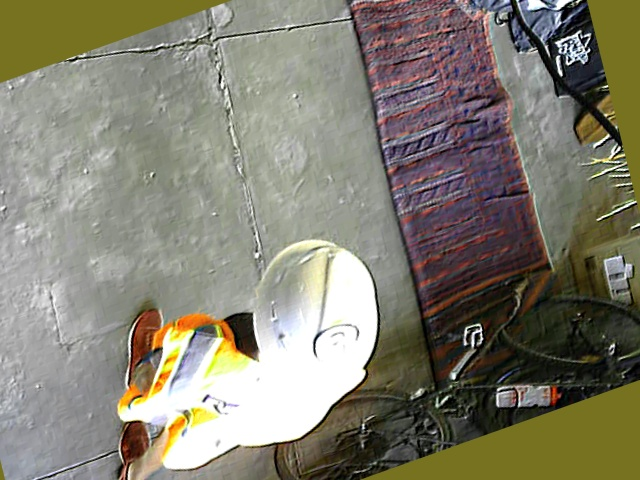three: (310, 318, 364, 369)
